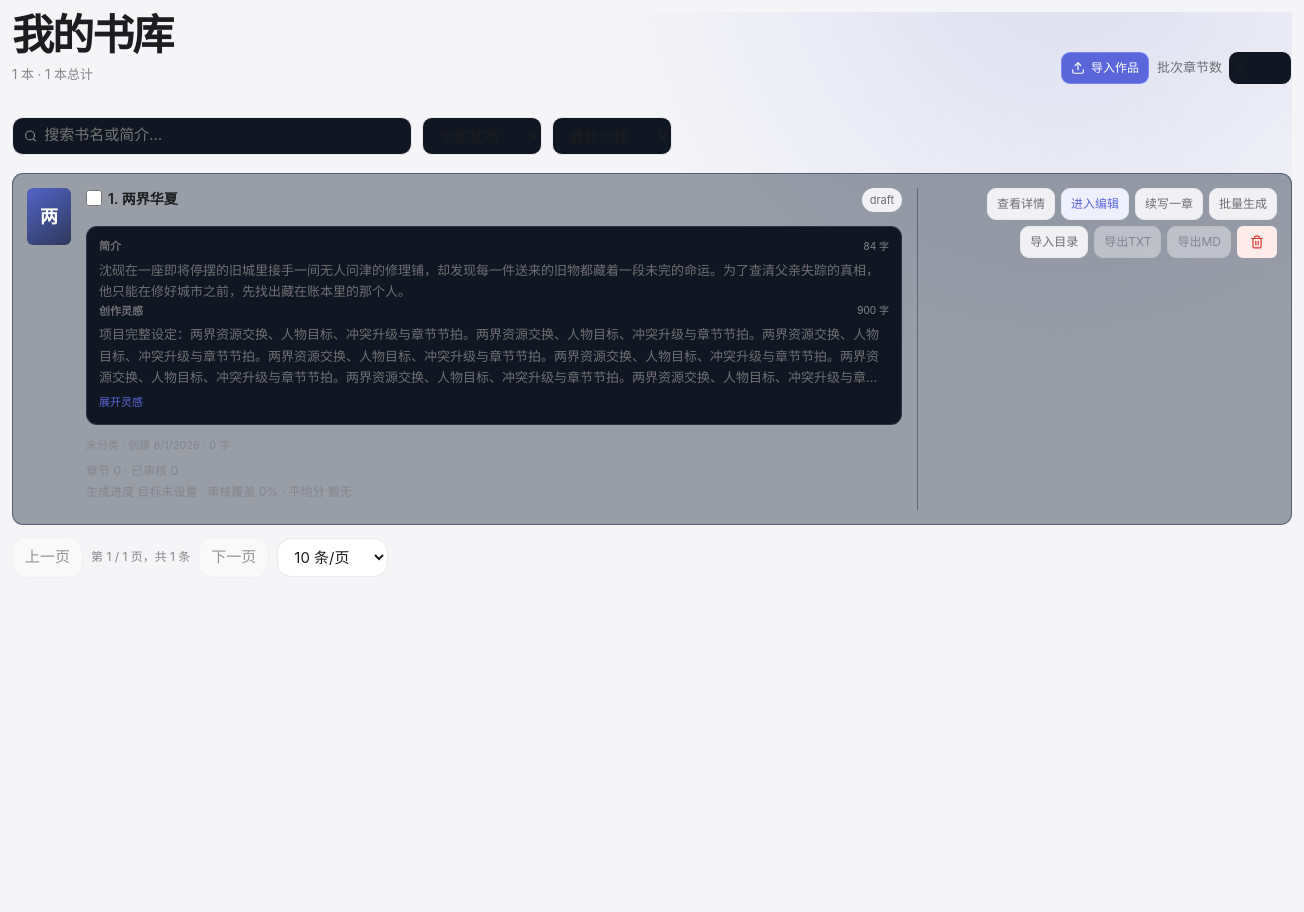
Test: 书库紧凑列表 › 长灵感默认折叠，展开后仍可查看全文且保留书籍操作
The image size is (1304, 912).
Expected: the text "1. 两界华夏" is shown, [108, 188, 178, 209]
Expected: the text "沈砚在一座即将停摆的旧城里" is shown, [99, 262, 879, 299]
Click the button "展开灵感".
click(121, 403)  # box [99, 394, 143, 411]
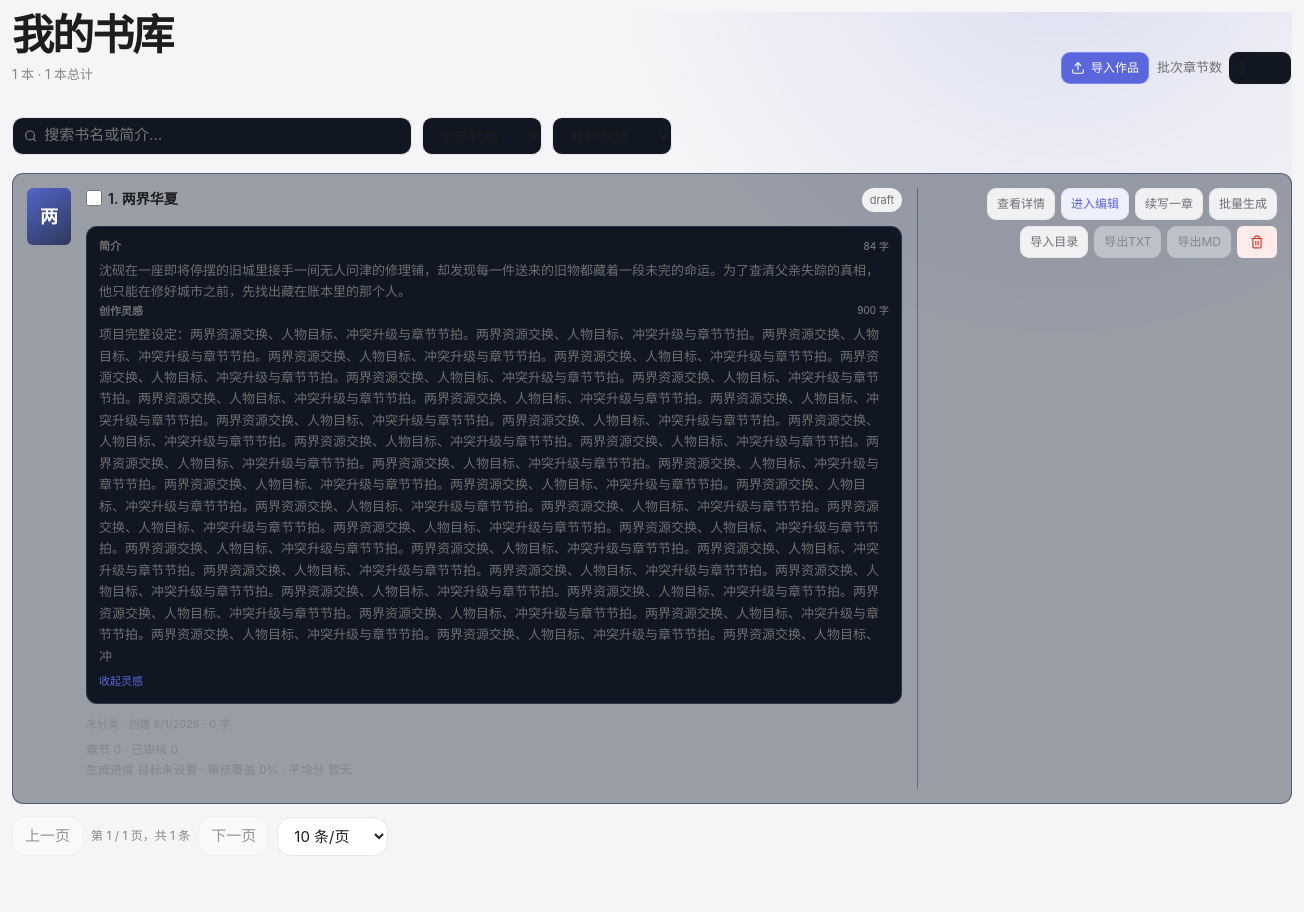
Now the button "收起灵感" is expanded, box [99, 673, 143, 690]
